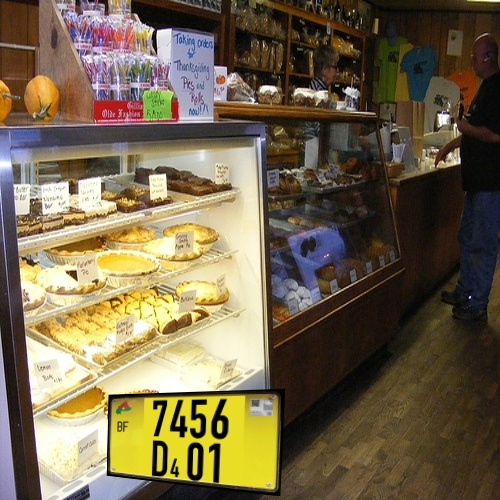plate: (99, 387, 301, 500)
